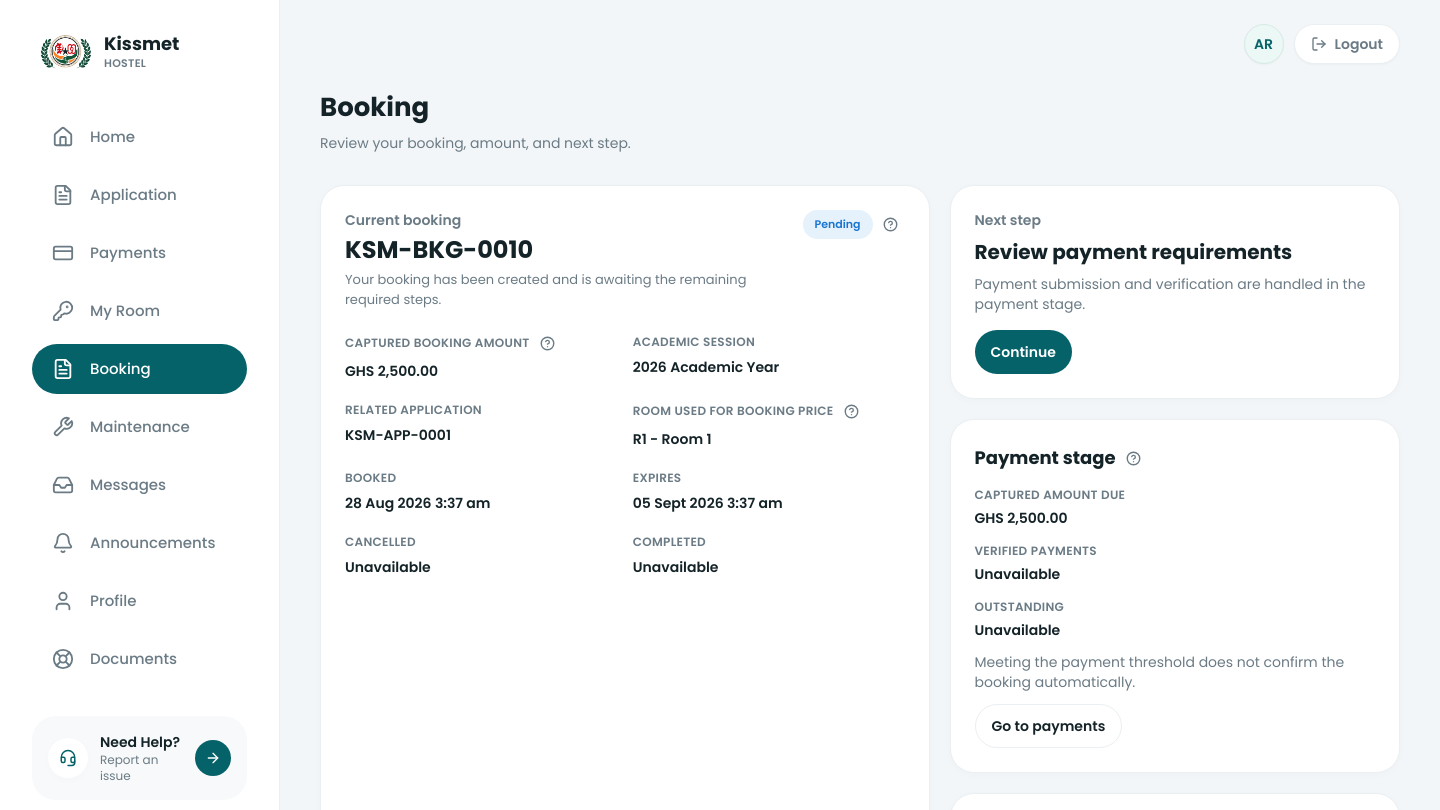
Test case: resident booking › displays pending booking details from captured booking amount
The image size is (1440, 810).
expect the heading "KSM-BKG-0010" is shown: met, box [345, 233, 533, 266]
expect the text "Pending" is shown: met, box [802, 210, 872, 238]
Step 1. Click the button named "About captured booking amount" → coordinates (548, 343), box [534, 329, 562, 357]
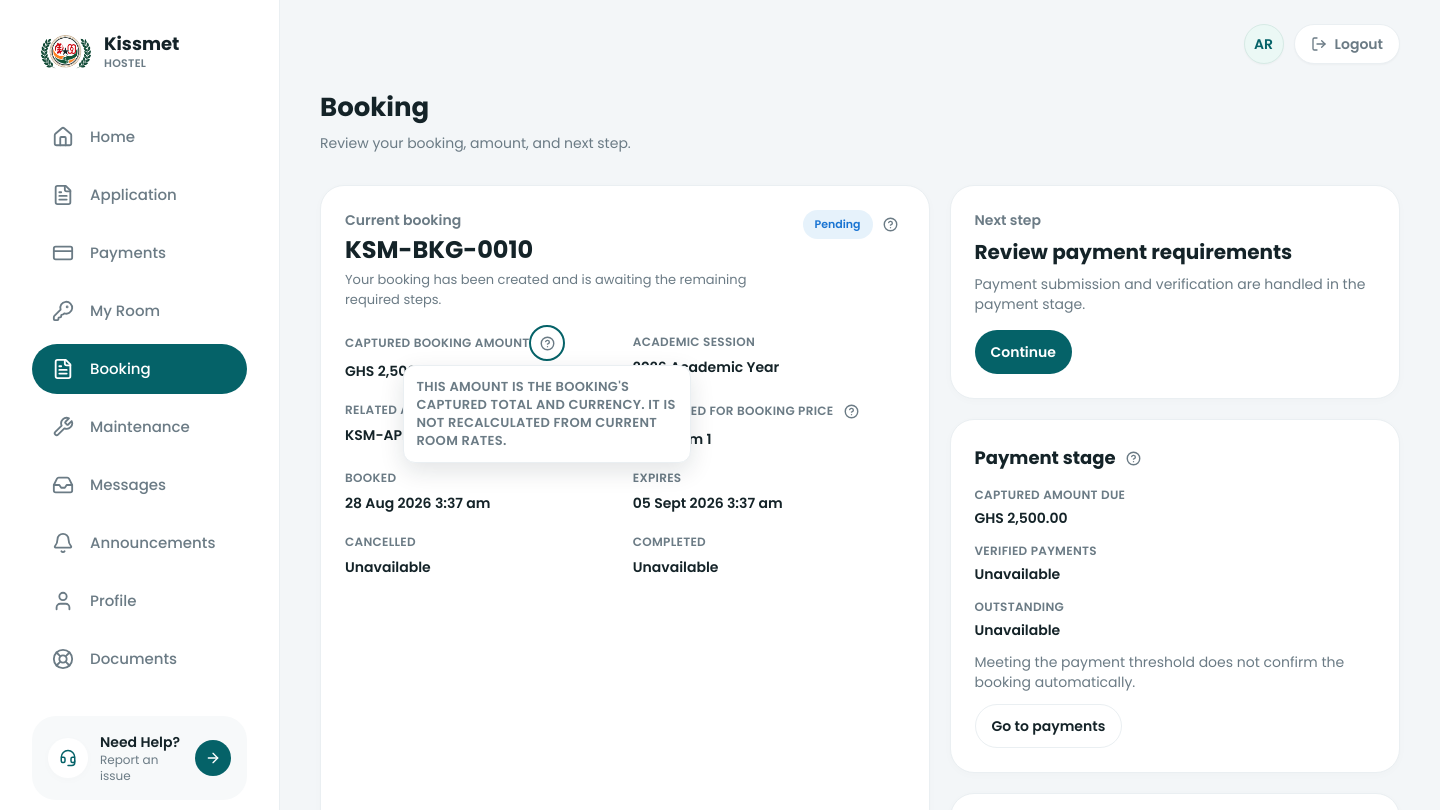
expect the tooltip "not recalculated from current room rates" is shown: met, box [416, 377, 676, 450]
